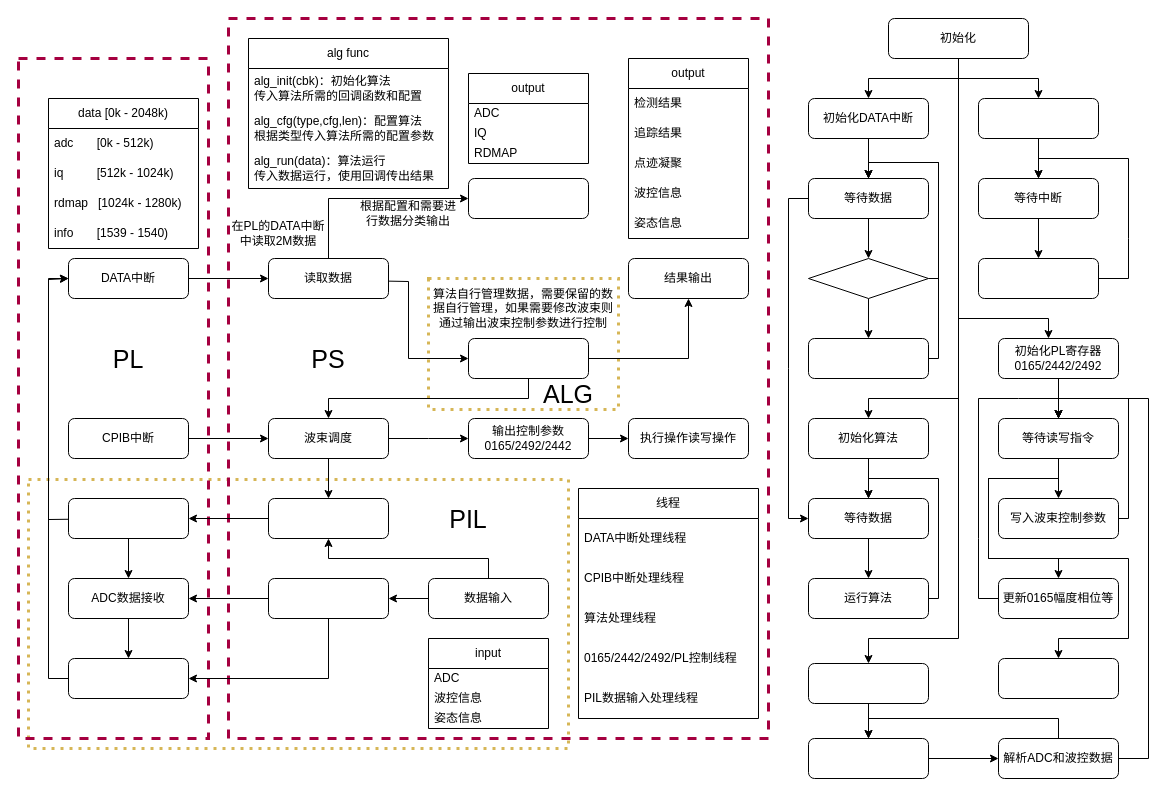
Some shapes in this 1174 by 796 pixel diagram are drawn without their labels. Each missing label, with the centre of its shape:
"ADC数据注入" goes at point (328, 598).
"写入ADC触发PIL功能" goes at point (1058, 678).
"初始化CPIB中断" goes at point (1038, 118).
"初始化PIL" goes at point (868, 683).
"数据打包数据" goes at point (868, 358).
"数据输出" goes at point (528, 198).
"波束参数写入" goes at point (328, 518).
"波束参数接收" goes at point (128, 518).
"等待数据输入" goes at point (868, 758).
"算法处理" goes at point (528, 358).
"触发一次PIL流程" goes at point (128, 678).
"计算0165幅度相位 波束控制参数等" goes at point (1038, 278).
"输出数据" goes at point (868, 278).
